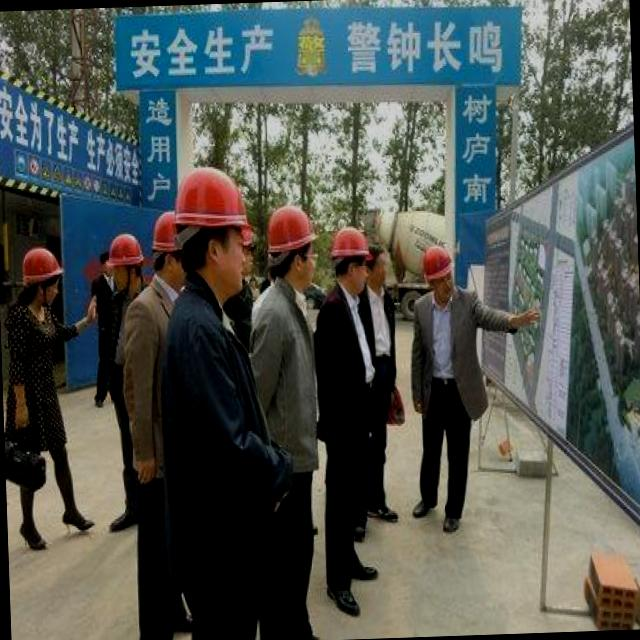helmet: (168, 166, 250, 223), (264, 203, 314, 250), (19, 247, 64, 281), (104, 232, 144, 267), (329, 226, 368, 256), (421, 244, 455, 276)
no-goggles: (214, 230, 251, 260)
no-vest: (176, 301, 276, 577), (257, 282, 320, 470), (413, 294, 486, 416), (328, 292, 378, 434), (10, 308, 60, 433)
